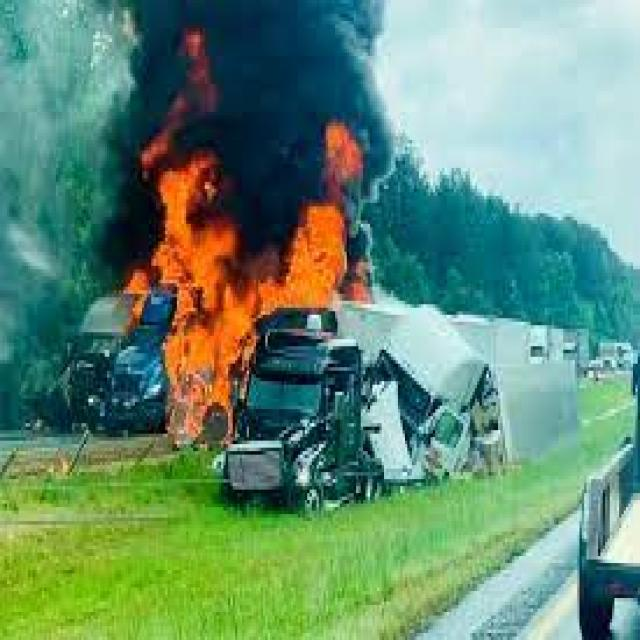fire: (126, 147, 256, 455), (256, 171, 356, 336)
smoke: (102, 3, 405, 200), (349, 175, 389, 304), (81, 200, 126, 298)
